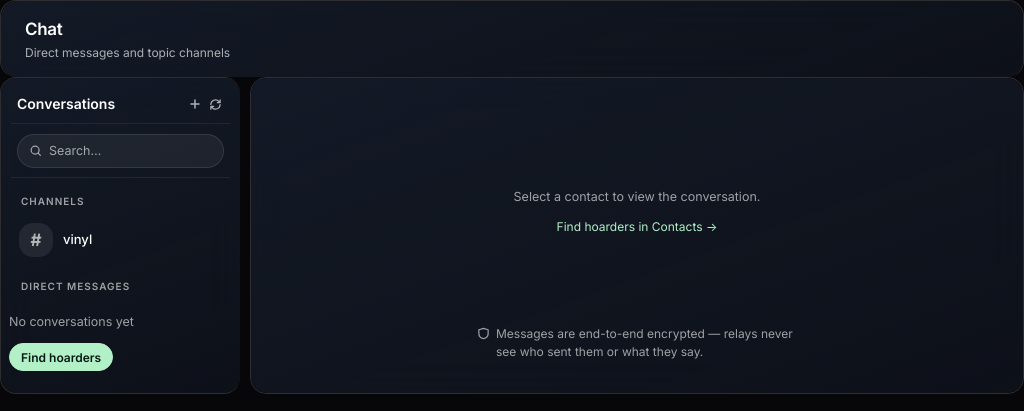
QURATOR-146 — a slow non-contact resolve must not override in-flight navigation › a resolve landing AFTER the user opens a Topic channel does not yank the view back
# The sidebar's Channels section renders once loadTopics settles.
Click the text "vinyl".
click(78, 239)  # box 63,231 -> 92,247
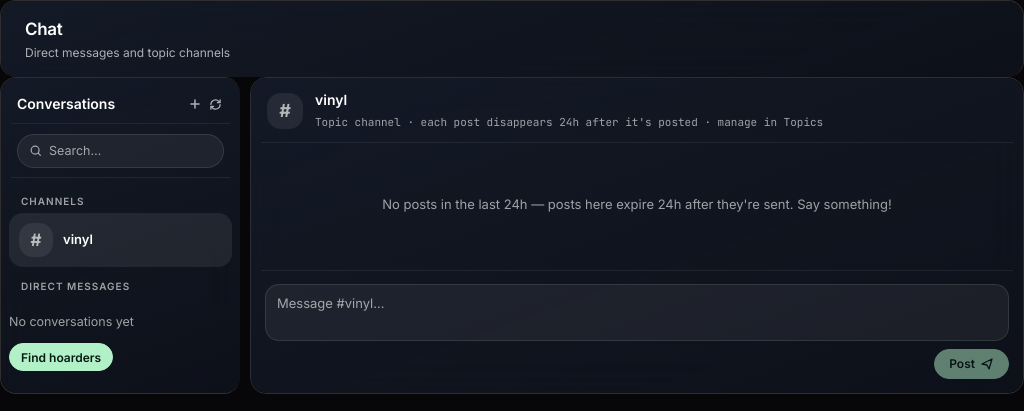
Now the text "No posts in the last 24h" is shown, box 382,196 -> 892,212
